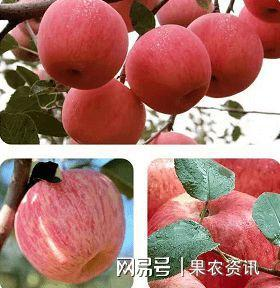apple: (15, 168, 128, 283), (149, 189, 280, 288), (34, 1, 127, 91), (122, 27, 213, 113), (188, 13, 260, 96), (59, 80, 146, 142)
